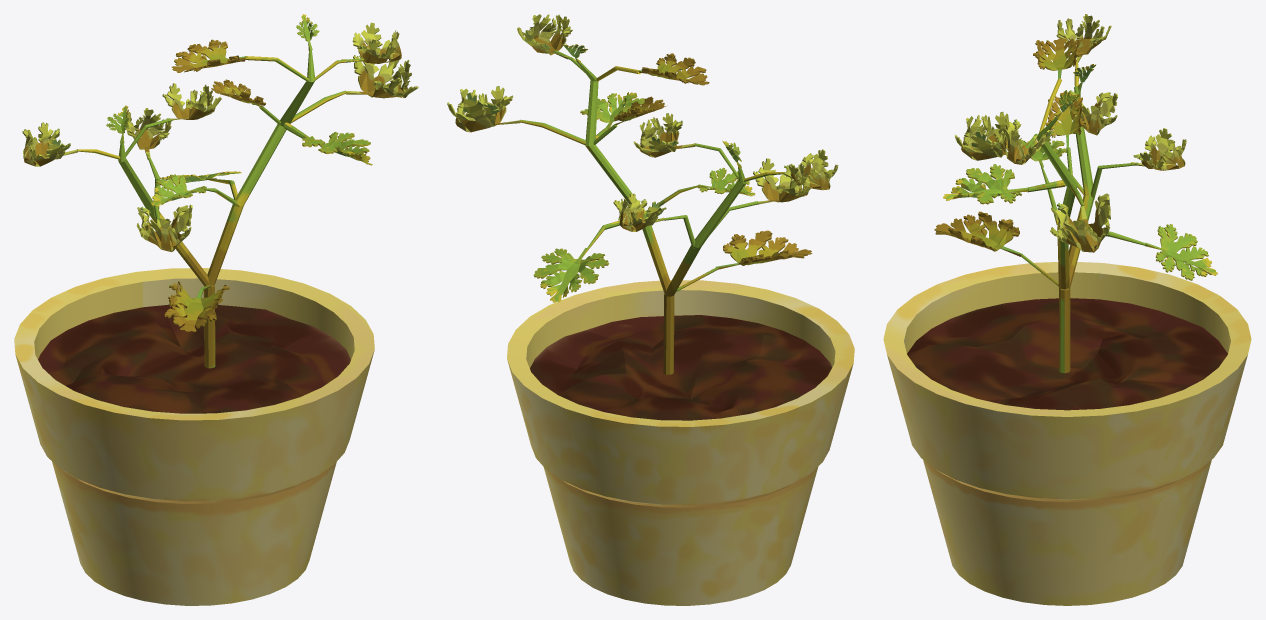
The model's file is Pelargonium_Horrible_End.glb.
3 views of the same model, side by side, from view 1: azimuth 30°, elevation 25°; view 2: azimuth 150°, elevation 25°; view 3: azimuth 270°, elevation 25° (orthographic). The views are drawn at different scales.
Parts seen in each view (by area): view 1: Pot, Cylinder; view 2: Pot, Cylinder; view 3: Pot, Cylinder.
Boxes of the visible parts, bbox=[...] form: Pot: bbox=[14, 268, 374, 605]; Cylinder: bbox=[22, 14, 418, 368]; Pot: bbox=[507, 280, 854, 605]; Cylinder: bbox=[447, 14, 838, 374]; Pot: bbox=[883, 262, 1251, 605]; Cylinder: bbox=[934, 14, 1217, 373].
Size of the model in its own units: 2.54 by 3.19 by 2.05.
4 materials, 4 textured.
